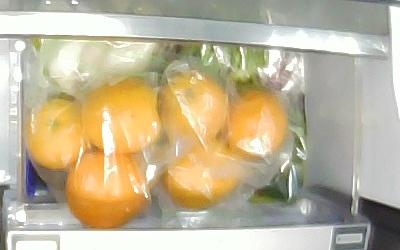orange_vinyl: (67, 152, 144, 229), (81, 79, 161, 153), (164, 141, 243, 207), (157, 74, 229, 138), (27, 100, 90, 170), (223, 92, 288, 158)
